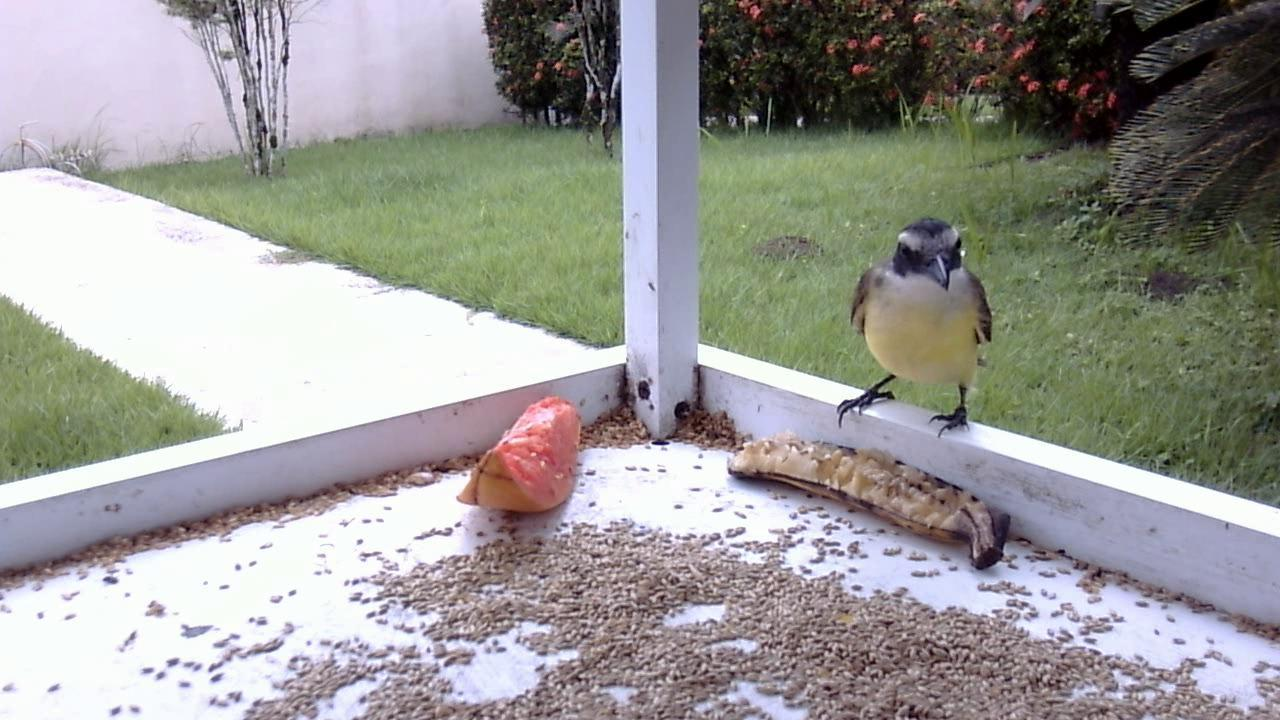bem_te_vi: (830, 211, 995, 447)
